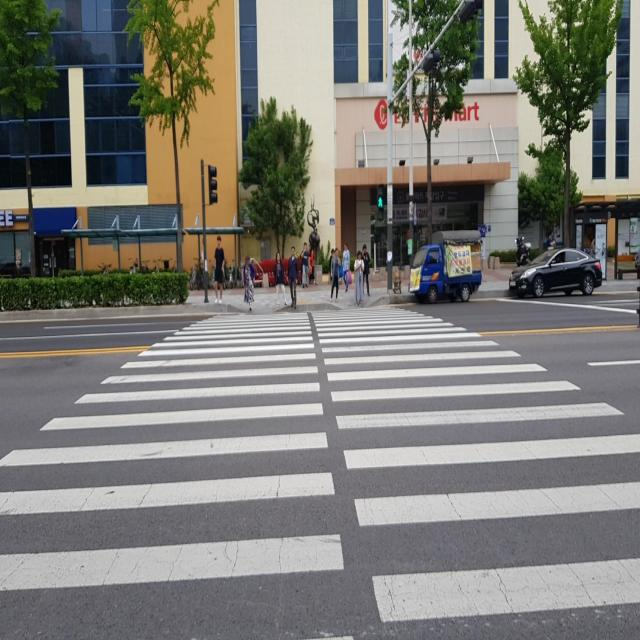초록불: (378, 190, 386, 222)
횡단보도: (0, 302, 640, 640)
